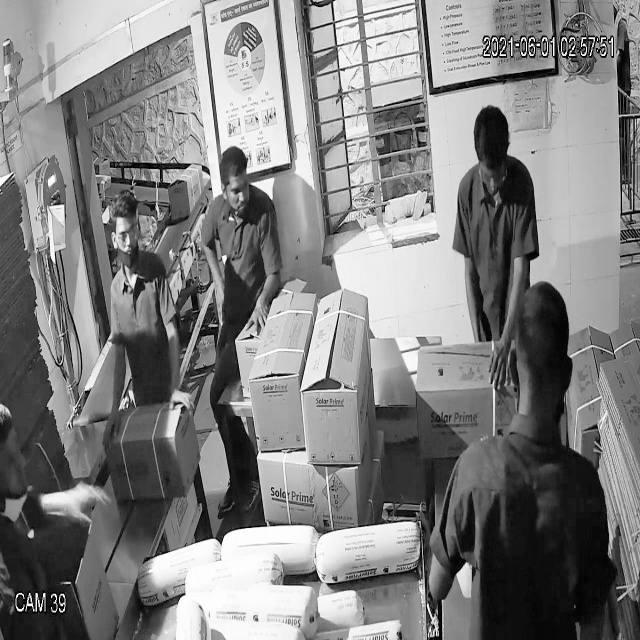Gafas: (110, 220, 144, 253)
